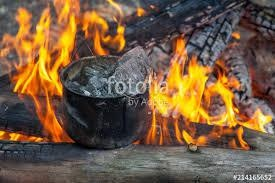fire: (145, 32, 261, 145), (2, 0, 89, 145)
